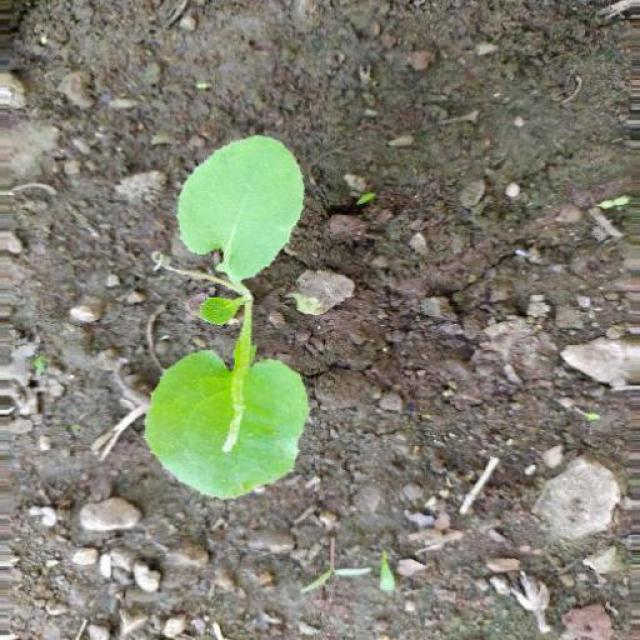weed: (145, 142, 311, 512)
